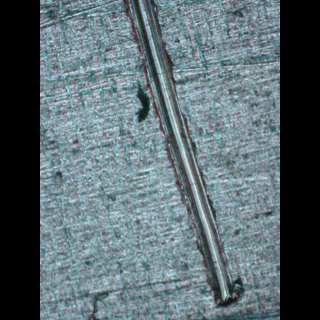d: (117, 0, 247, 307)
